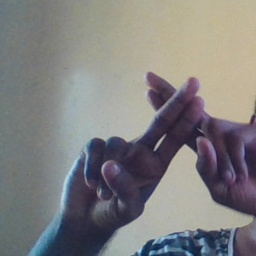F: (101, 60, 244, 188)
